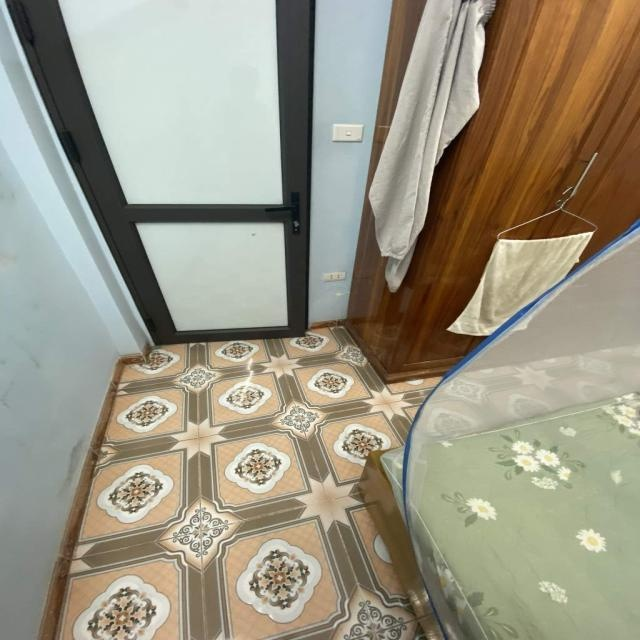outlet: (323, 271, 345, 282)
